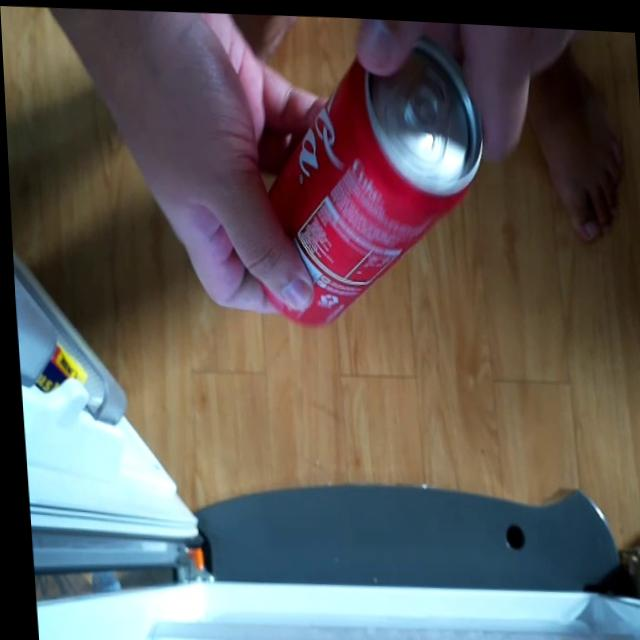coke: (231, 30, 494, 341)
